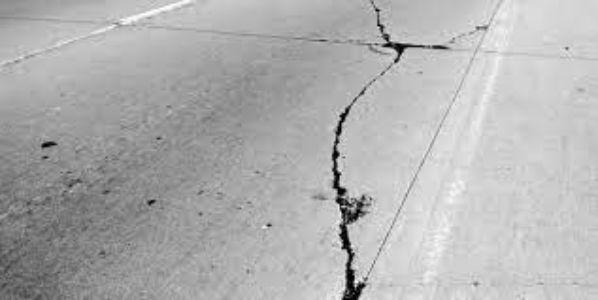crack: (322, 6, 406, 300), (388, 19, 494, 55)
